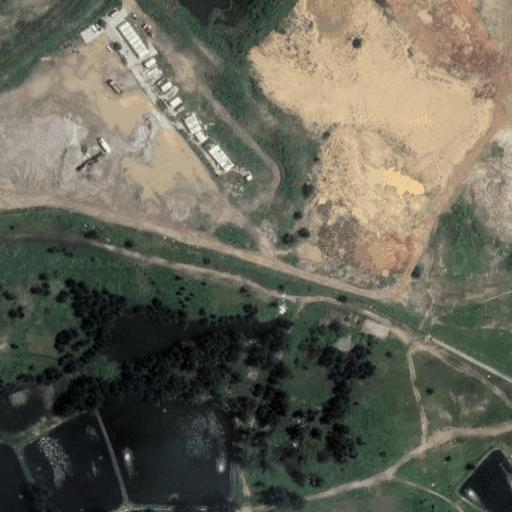building: (204, 139, 234, 173), (119, 22, 148, 56), (75, 17, 105, 45), (184, 114, 202, 133)
